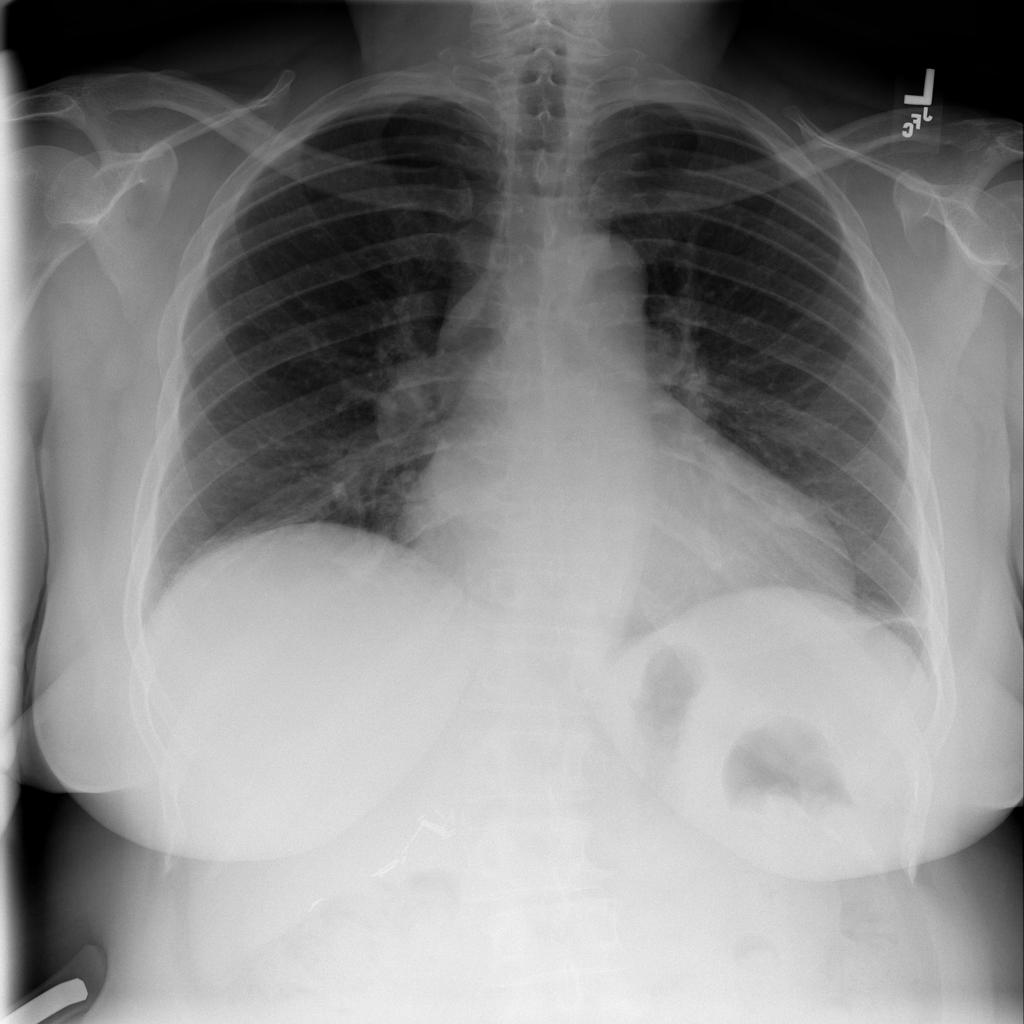Cardiomegaly: (338, 309, 881, 679)
